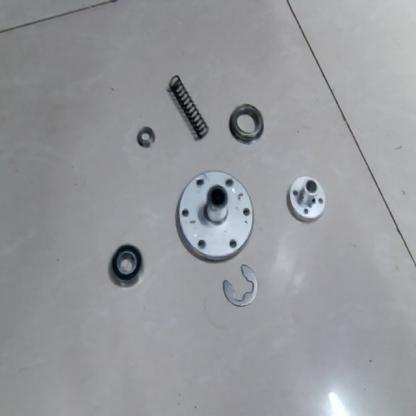FOD: (174, 167, 256, 266), (165, 72, 209, 139), (285, 175, 327, 226), (106, 242, 146, 290), (226, 99, 264, 145), (222, 266, 260, 310), (134, 122, 158, 154)
